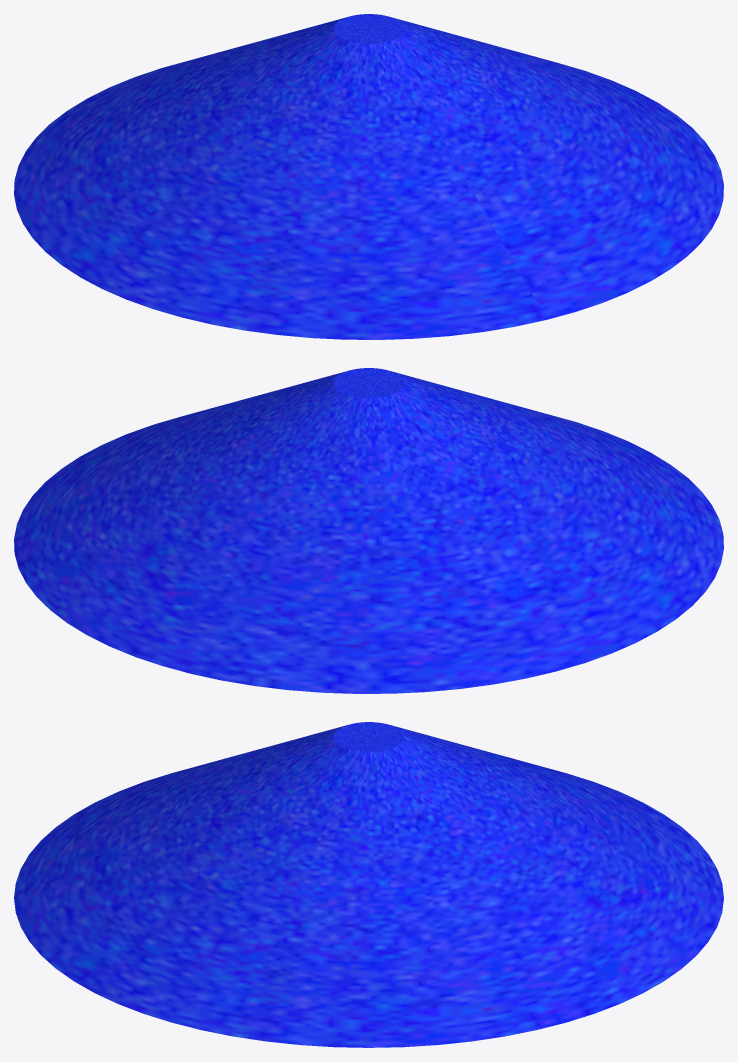
The model's file is sapphire_dust.glb.
The picture shows the model from 3 angles, top to bottom: view 1: azimuth 30°, elevation 25°; view 2: azimuth 150°, elevation 25°; view 3: azimuth 270°, elevation 25°; orthographic projection.
Visible parts, largest first — view 1: MeshInstance3D; view 2: MeshInstance3D; view 3: MeshInstance3D.
Part boxes in pixels (<box>): MeshInstance3D: <box>14,14,723,339</box>; MeshInstance3D: <box>14,368,723,693</box>; MeshInstance3D: <box>14,722,723,1047</box>.
Size of the model in its own units: 0.2 by 0.05 by 0.2.
Materials: 1 (1 with a texture image).
